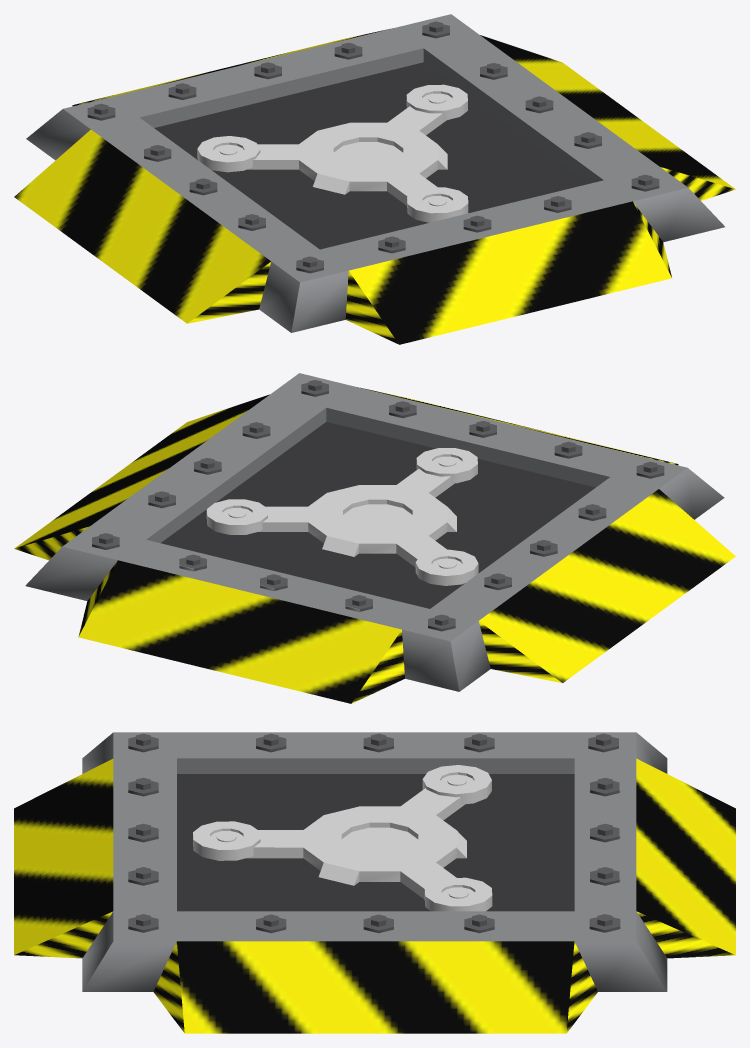
File: turretSpot.fbx
The picture shows the model from 3 angles, top to bottom: view 1: azimuth 30°, elevation 25°; view 2: azimuth 150°, elevation 25°; view 3: azimuth 270°, elevation 25°; orthographic projection. The views are drawn at different scales.
Visible parts, largest first — view 1: Box001; view 2: Box001; view 3: Box001.
Boxes of the visible parts, x1,y1,x2,y2 form: Box001: (14,14,735,344); Box001: (14,373,735,703); Box001: (14,732,735,1033).
Size of the model in its own units: 65.14 by 5.95 by 67.32.
1 material, 1 textured.
